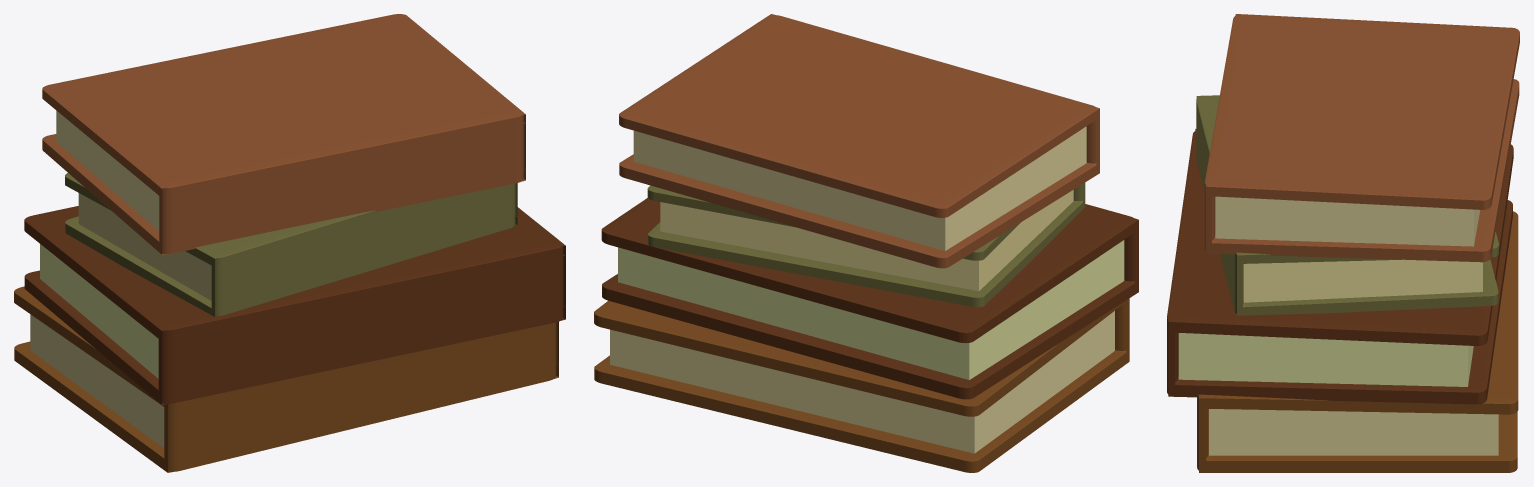
The model's file is BookPile.fbx.
3 renders of one model, left to right at view 1: azimuth 30°, elevation 25°; view 2: azimuth 150°, elevation 25°; view 3: azimuth 270°, elevation 25°, orthographic. The views are drawn at different scales.
Visible parts, largest first — view 1: Cube.006, Cube.002, Cube, Cube.004, Cube.001, Cube.003, Cube.005, Cube.007; view 2: Cube.006, Cube.002, Cube, Cube.003, Cube.001, Cube.007, Cube.005, Cube.004; view 3: Cube.006, Cube.002, Cube, Cube.003, Cube.001, Cube.007, Cube.005, Cube.004.
Part boxes in pixels (x1,y1,x2,y2): Cube.006: (42, 14, 525, 254); Cube.002: (24, 206, 565, 404); Cube: (14, 286, 558, 472); Cube.004: (65, 173, 517, 316); Cube.001: (30, 314, 164, 447); Cube.003: (40, 244, 158, 378); Cube.005: (78, 193, 211, 300); Cube.007: (56, 110, 159, 231); Cube.006: (619, 14, 1099, 268); Cube.002: (601, 198, 1138, 399); Cube: (594, 298, 1129, 472); Cube.003: (618, 240, 1124, 379); Cube.001: (610, 311, 1114, 453); Cube.007: (633, 126, 1086, 250); Cube.005: (660, 190, 1073, 291); Cube.004: (647, 182, 1085, 307); Cube.006: (1204, 14, 1519, 262); Cube.002: (1167, 129, 1513, 404); Cube: (1197, 211, 1518, 472); Cube.003: (1178, 333, 1473, 386); Cube.001: (1209, 409, 1498, 455); Cube.007: (1215, 196, 1480, 246); Cube.005: (1243, 259, 1482, 302); Cube.004: (1196, 95, 1498, 315).
Bounding box in the file's own units: 786 × 496 × 583.
